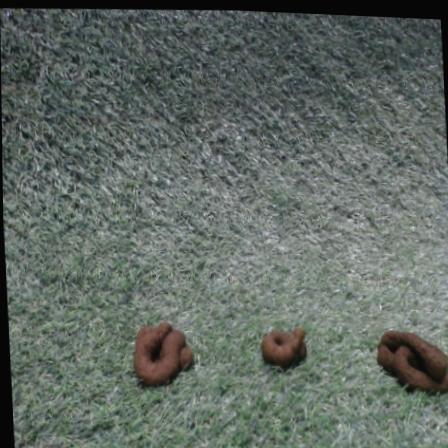dog-poop: (374, 320, 444, 389), (128, 315, 194, 384), (256, 322, 310, 368)
